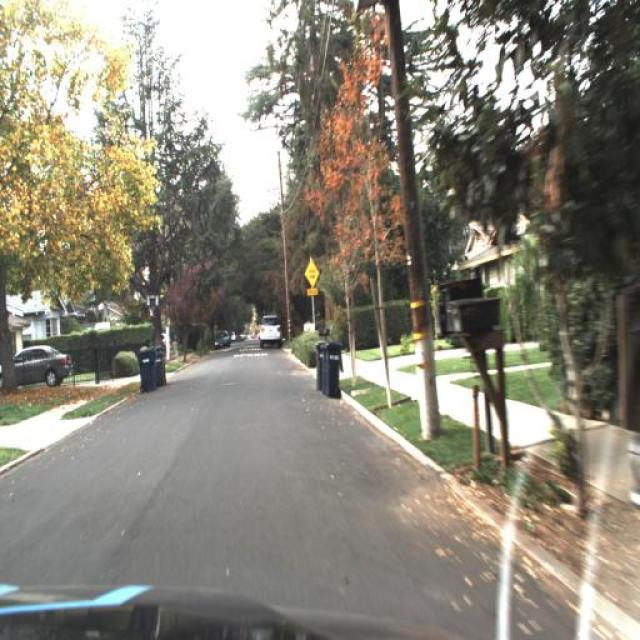car: (3, 337, 75, 397), (258, 310, 284, 349), (210, 322, 232, 351)
